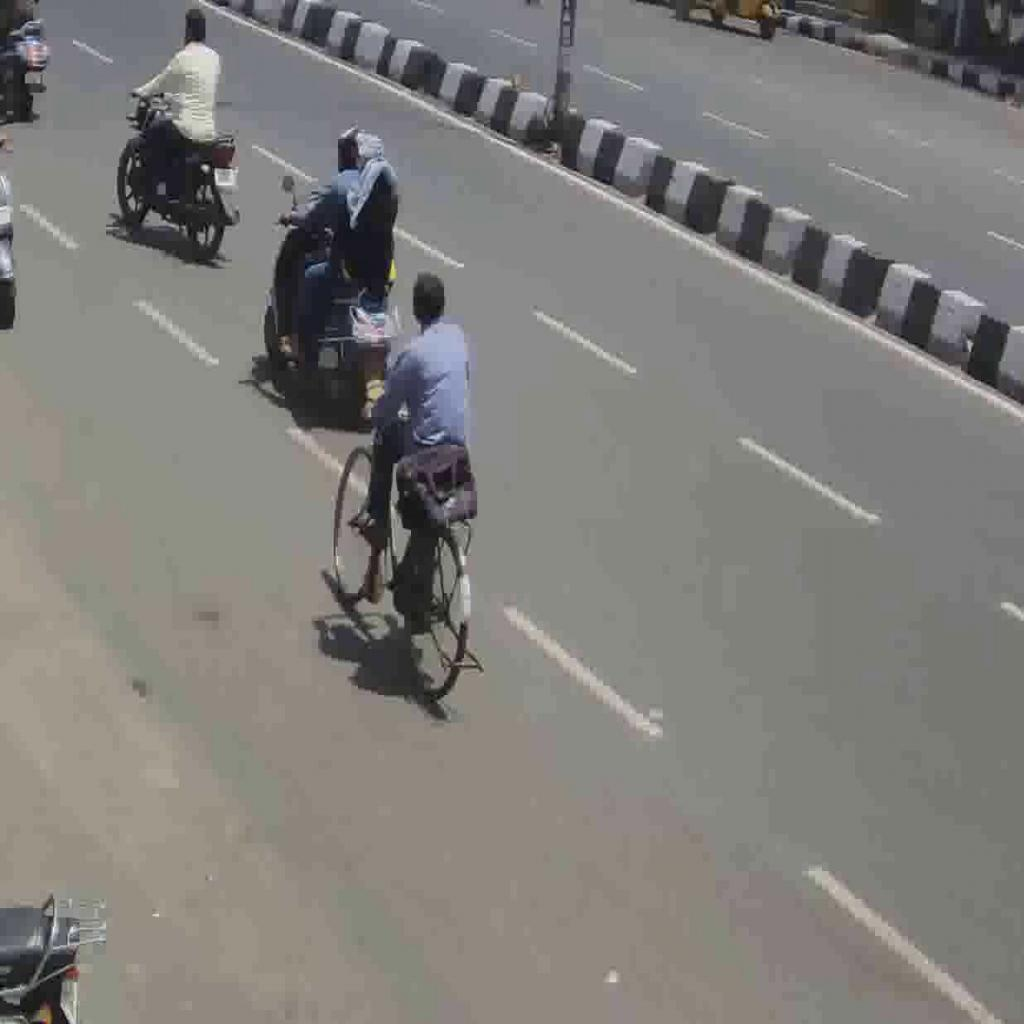bike: (262, 180, 403, 430), (116, 79, 242, 265), (0, 18, 52, 121)
helmet: (336, 124, 363, 174)
lisc: (214, 167, 236, 186), (25, 73, 41, 83)
no_helmet: (350, 132, 382, 171), (183, 6, 207, 44)
rider: (286, 132, 399, 390), (275, 123, 363, 356), (128, 5, 220, 216)
